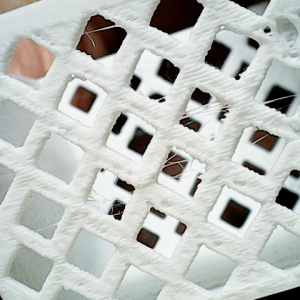3dpstringing: (184, 98, 231, 131), (157, 151, 206, 179), (87, 190, 133, 219), (79, 24, 123, 47), (236, 131, 270, 152), (259, 93, 298, 109), (35, 221, 65, 238), (256, 25, 279, 45), (149, 93, 169, 107)
3dpunderextrusion: (24, 25, 69, 55), (197, 231, 238, 258), (206, 176, 253, 193)
